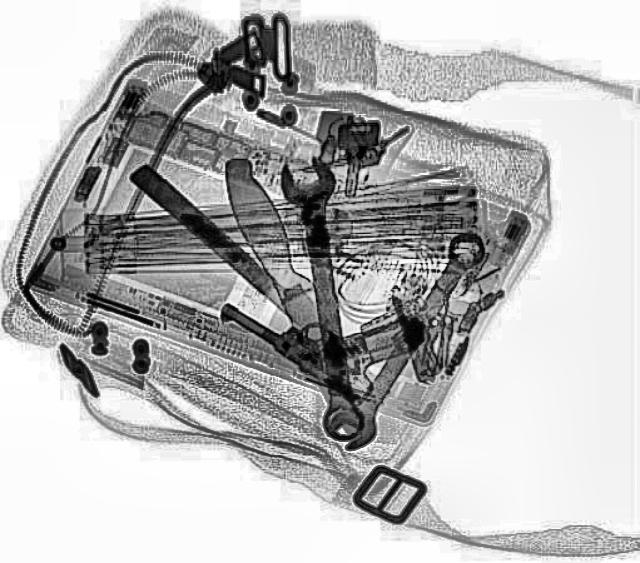Gun: (212, 235, 434, 409)
Knife: (126, 162, 384, 388), (205, 150, 362, 392)
Wrench: (315, 224, 501, 453), (274, 153, 372, 442)
